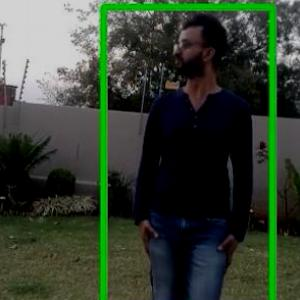follow: (84, 0, 240, 299), (141, 4, 250, 299)
